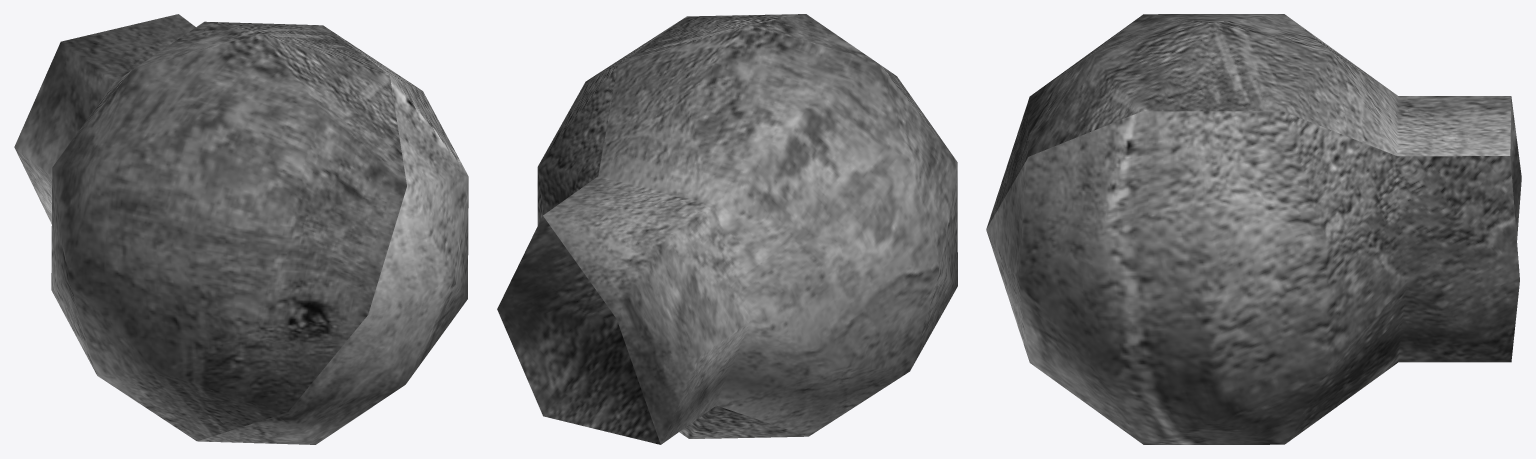
File: rearGun.obj
3 renders of one model, left to right at view 1: azimuth 30°, elevation 25°; view 2: azimuth 150°, elevation 25°; view 3: azimuth 270°, elevation 25°, orthographic. The views are drawn at different scales.
Visible parts, largest first — view 1: Cube; view 2: Cube; view 3: Cube.
Part boxes in pixels (x1,y1,x2,y2): Cube: (14,14,468,444); Cube: (497,14,957,444); Cube: (986,14,1521,444).
Bounding box in the file's own units: 2.96 × 2.96 × 3.47.
Materials: 1 (1 with a texture image).
